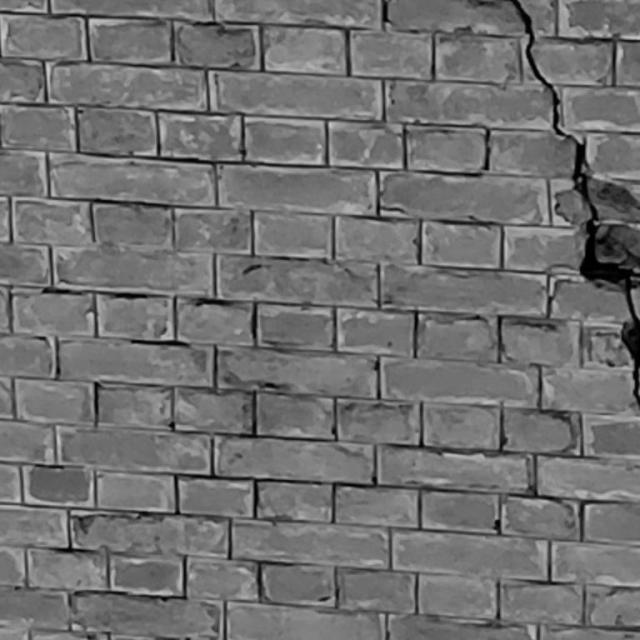crack: (512, 1, 639, 407)
